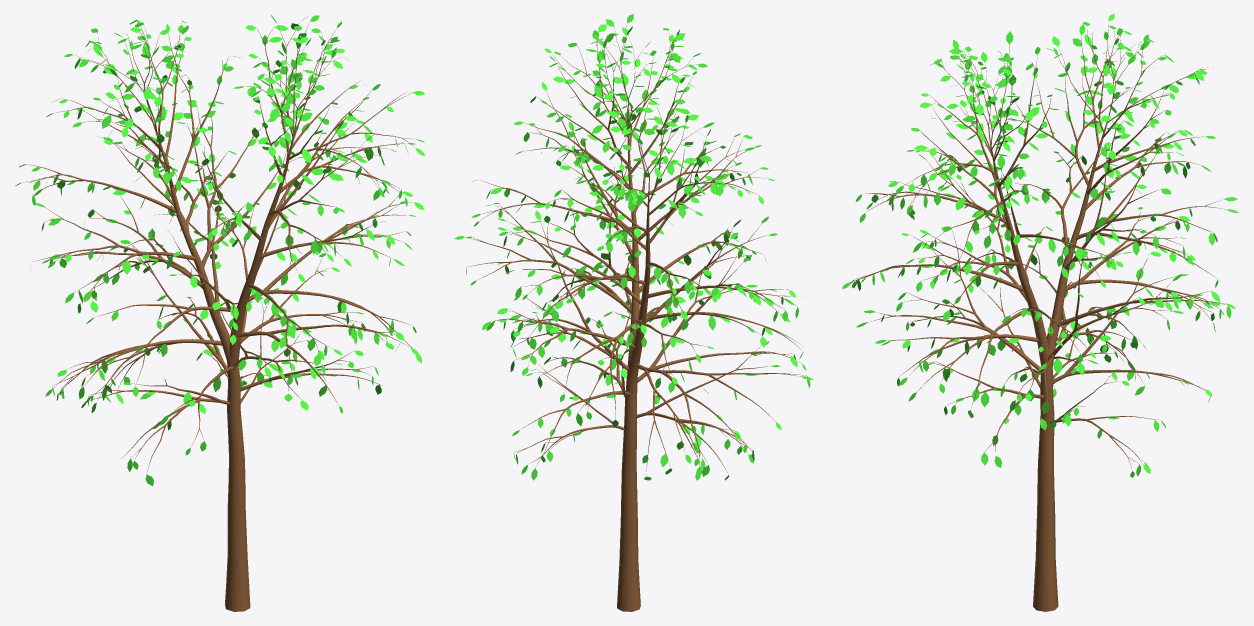
The model's file is tree.glb.
3 views of the same model, side by side, from view 1: azimuth 30°, elevation 25°; view 2: azimuth 150°, elevation 25°; view 3: azimuth 270°, elevation 25° (orthographic). The views are drawn at different scales.
Parts seen in each view (by area): view 1: tree.001, leaves; view 2: tree.001, leaves; view 3: tree.001, leaves.
Part boxes in pixels (box(x1,y1,x2,y2)): tree.001: box(23, 21, 414, 611); leaves: box(14, 14, 424, 485); tree.001: box(467, 26, 806, 611); leaves: box(454, 14, 813, 480); tree.001: box(851, 21, 1227, 611); leaves: box(842, 14, 1239, 477).
Size of the model in its own units: 10.32 by 16.22 by 10.04.
